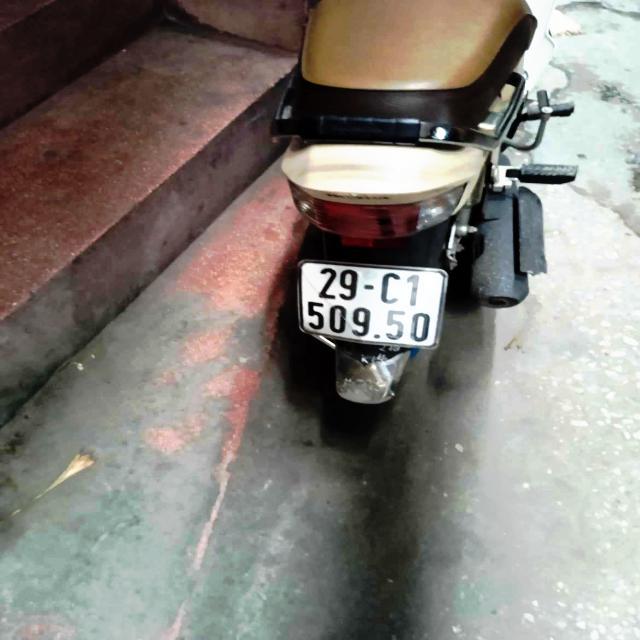license_plate: (289, 253, 459, 357)
